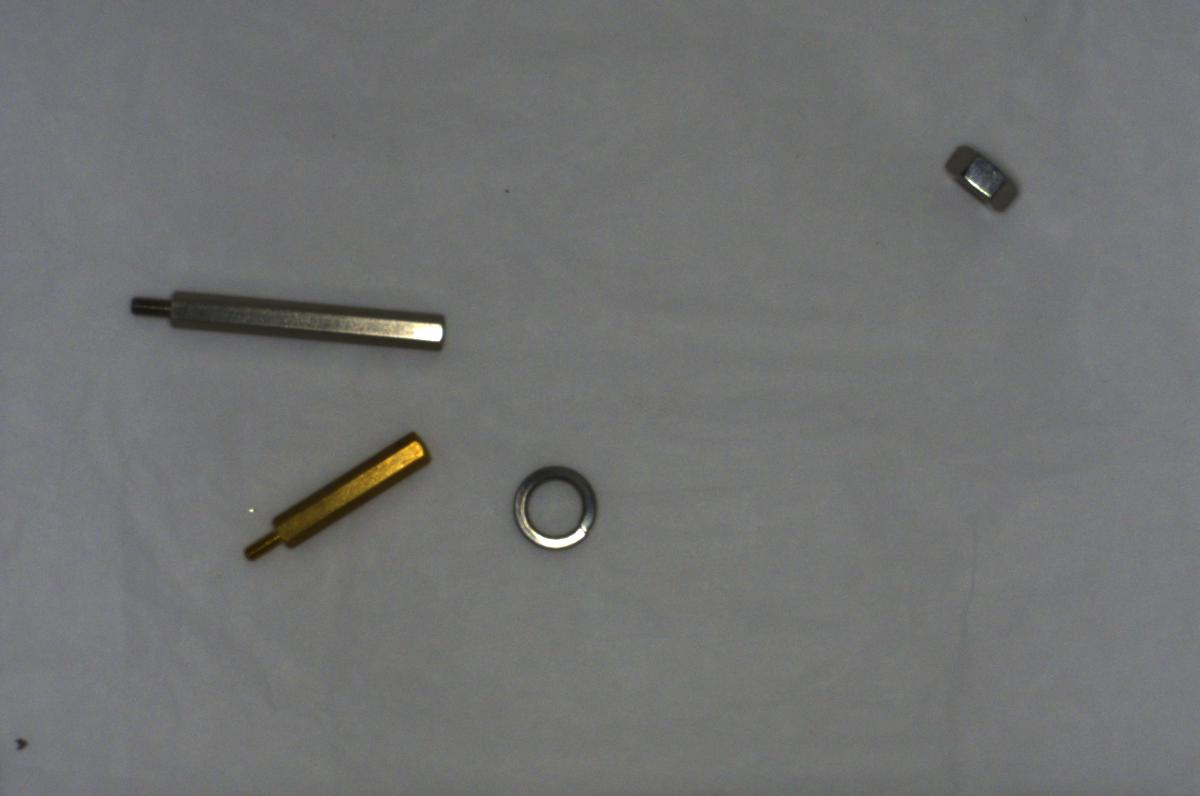Hexagon nut: (935, 138, 1030, 218)
Hexagon pillar: (225, 428, 437, 565)
Hexagonal steel column: (120, 285, 453, 354)
Spring washer: (501, 454, 610, 567)
